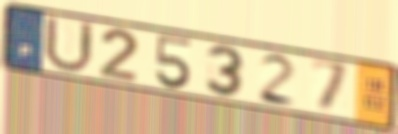2: (98, 28, 144, 85), (252, 54, 300, 108)
3: (203, 42, 247, 99)
5: (153, 33, 194, 92)
7: (309, 56, 351, 115)
U: (41, 12, 97, 75)
